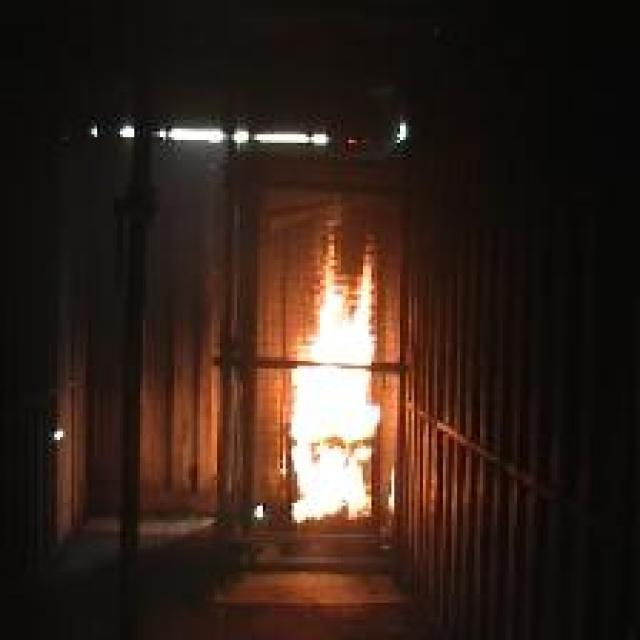Fire: (291, 220, 380, 523)
